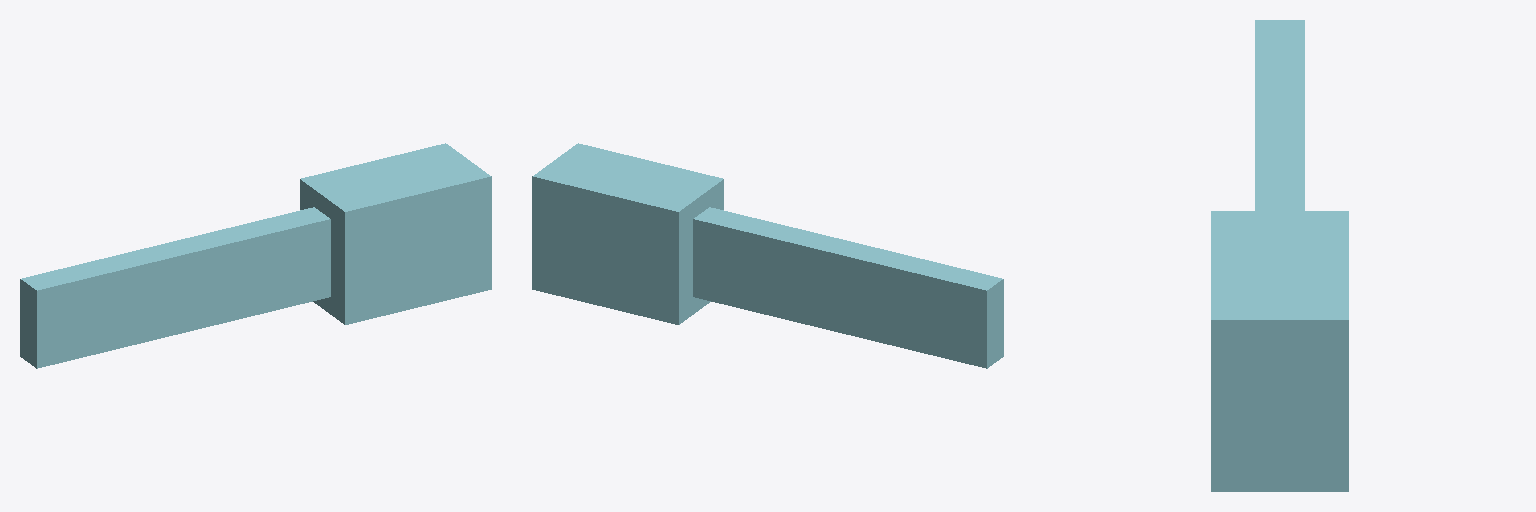
robot.urdf — cuboid_brush_v8004:
<?xml version="1.0"?>
<robot name="cuboid_brush_v8004">

  <link name="cuboid_brush_v8004">
    <!-- Handle -->
    <visual>
      <origin xyz="0 0 0" rpy="0 0 0"/>
      <geometry>
        <box size="0.11494587393016509 0.011075282542544895 0.029195490446584406"/>
      </geometry>
      <material name="material">
        <color rgba="0.639 0.847 0.882 1.0"/>
      </material>
    </visual>
    <collision>
      <origin xyz="0 0 0" rpy="0 0 0"/>
      <geometry>
        <box size="0.11494587393016509 0.011075282542544895 0.029195490446584406"/>
      </geometry>
    </collision>

    <!-- Head -->
    <visual>
      <origin xyz="0.0860780309096381 0 0" rpy="0 0 0"/>
      <geometry>
        <box size="0.057210187889111114 0.030821581866096938 0.04230333057524692"/>
      </geometry>
      <material name="material">
        <color rgba="0.639 0.847 0.882 1.0"/>
      </material>
    </visual>
    <collision>
      <origin xyz="0.0860780309096381 0 0" rpy="0 0 0"/>
      <geometry>
        <box size="0.057210187889111114 0.030821581866096938 0.04230333057524692"/>
      </geometry>
    </collision>

    <inertial>
      <density value="400.0"/>
    </inertial>
  </link>

</robot>

--- Render facts (derived) ---
3 views of the same robot in one strip: view 1: azimuth 30°, elevation 25°; view 2: azimuth 150°, elevation 25°; view 3: azimuth 270°, elevation 25° (orthographic).
Model cuboid_brush_v8004 with 1 links and 0 joints (none), rooted at cuboid_brush_v8004, posed all joints at 0.
Visible links, largest first — view 1: cuboid_brush_v8004; view 2: cuboid_brush_v8004; view 3: cuboid_brush_v8004.
Link boxes in pixels (x1,y1,x2,y2): cuboid_brush_v8004: (20,143,491,368); cuboid_brush_v8004: (532,143,1003,368); cuboid_brush_v8004: (1211,20,1348,491).
Bounding box of the posed robot: 0.1722 × 0.0308 × 0.0423 m (x, y, z).
Geometry: primitives only (box / cylinder / sphere), no mesh files.
